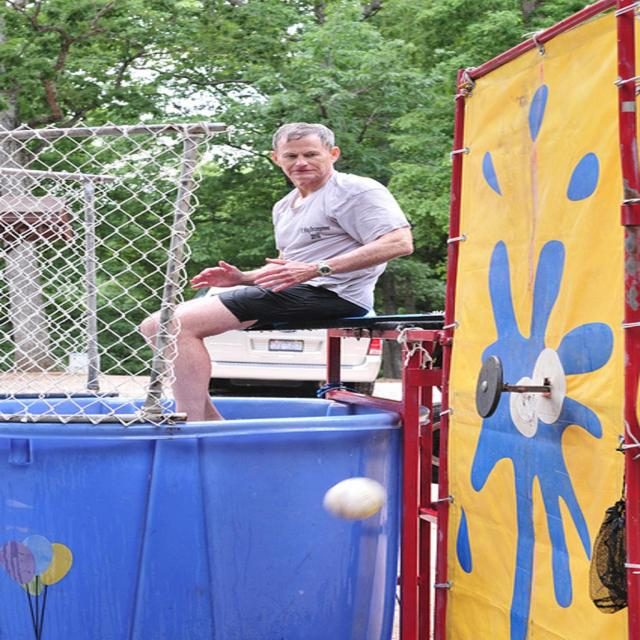Face: (258, 126, 350, 191)
